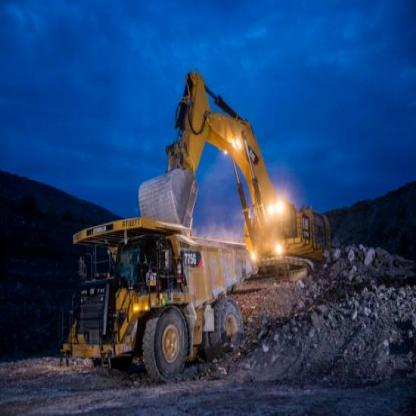dump_truck: (63, 214, 250, 378)
excavator: (139, 67, 329, 294)
